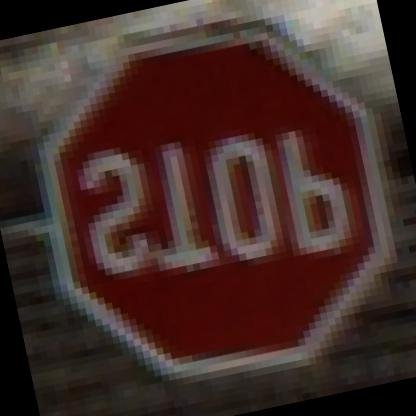stop: (12, 0, 415, 401)
